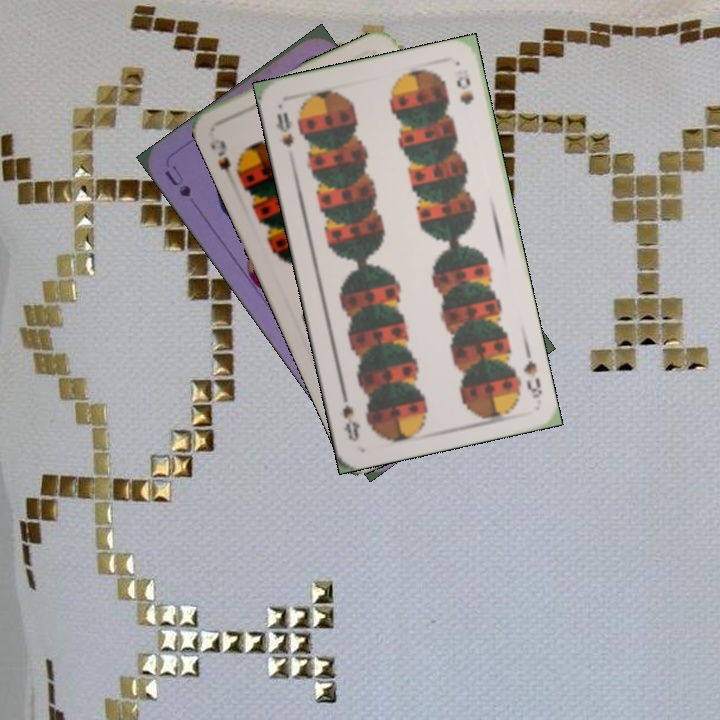S8: (520, 344, 545, 402), (272, 108, 296, 150)
S9: (206, 136, 244, 187)
SU: (160, 161, 194, 200)
